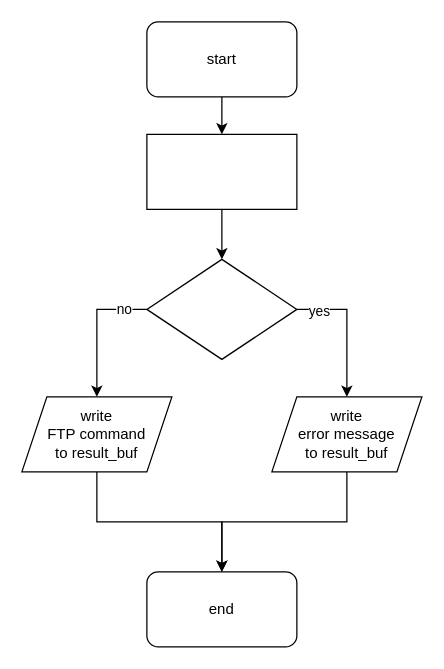
This 444x669 diagram has some shape labels left out. Here are the shapes that lost their labels. From the top down, the box of each, then its label:
(146, 133, 297, 209): rmdir(pathname)
(146, 258, 297, 359): fail?
